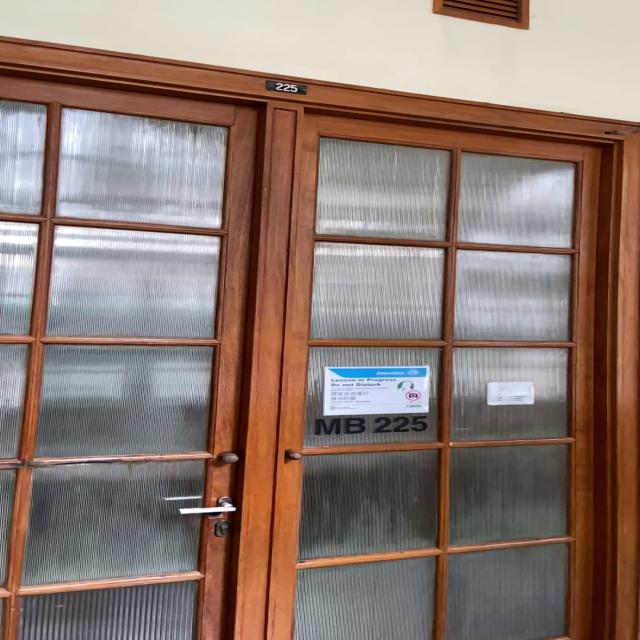room225: (264, 79, 311, 95)
room225Window: (314, 415, 432, 435)
